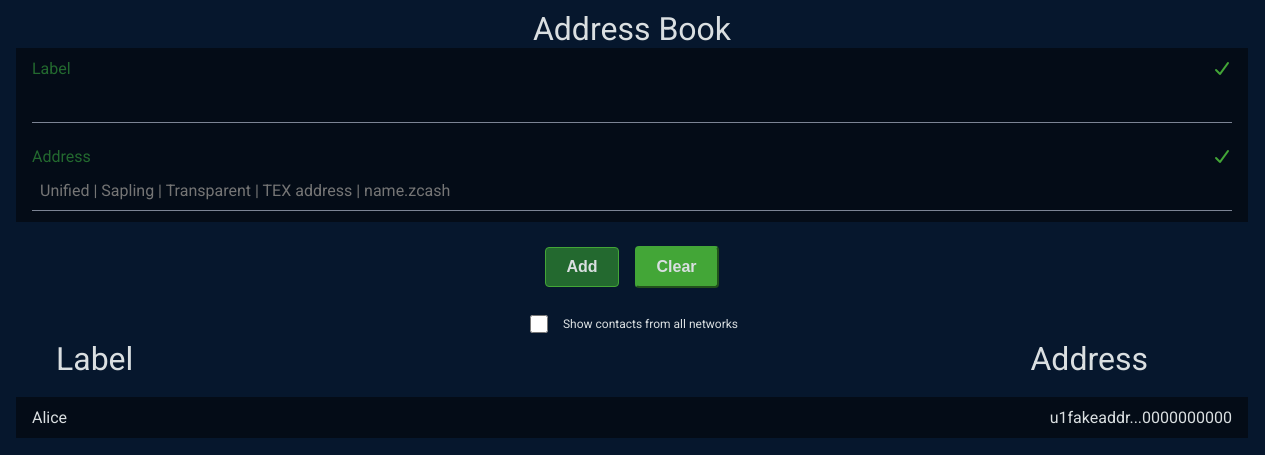
it: AddressBook › shows a duplicate label error when label already exists
The image size is (1265, 455).
Type "Alice" into the field named "label" at coordinates (632, 102), box [32,82,1232,123]
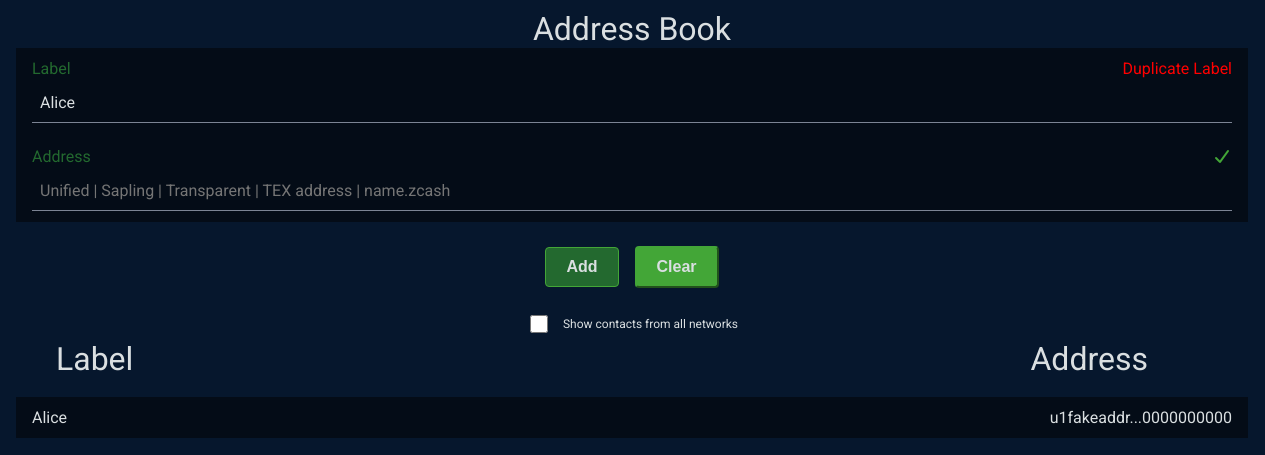
Result: the text "Duplicate Label" is shown at [1122,59,1232,78]
